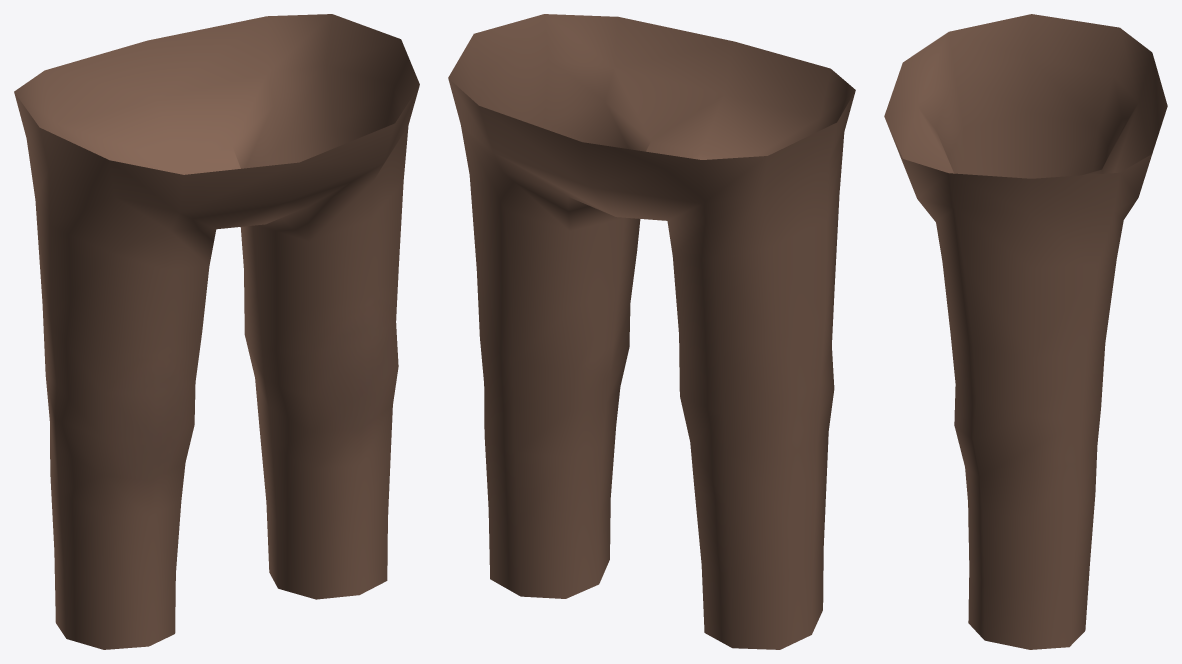
File: Body_Black_Bottom_2.fbx
3 renders of one model, left to right at view 1: azimuth 30°, elevation 25°; view 2: azimuth 150°, elevation 25°; view 3: azimuth 270°, elevation 25°, orthographic. The views are drawn at different scales.
Visible parts, largest first — view 1: Body_Black_Bottom_2; view 2: Body_Black_Bottom_2; view 3: Body_Black_Bottom_2.
Part boxes in pixels (<box>): Body_Black_Bottom_2: <box>14,14,419,649</box>; Body_Black_Bottom_2: <box>448,14,855,649</box>; Body_Black_Bottom_2: <box>884,14,1167,649</box>.
Size of the model in its own units: 34.87 by 48 by 25.35.
